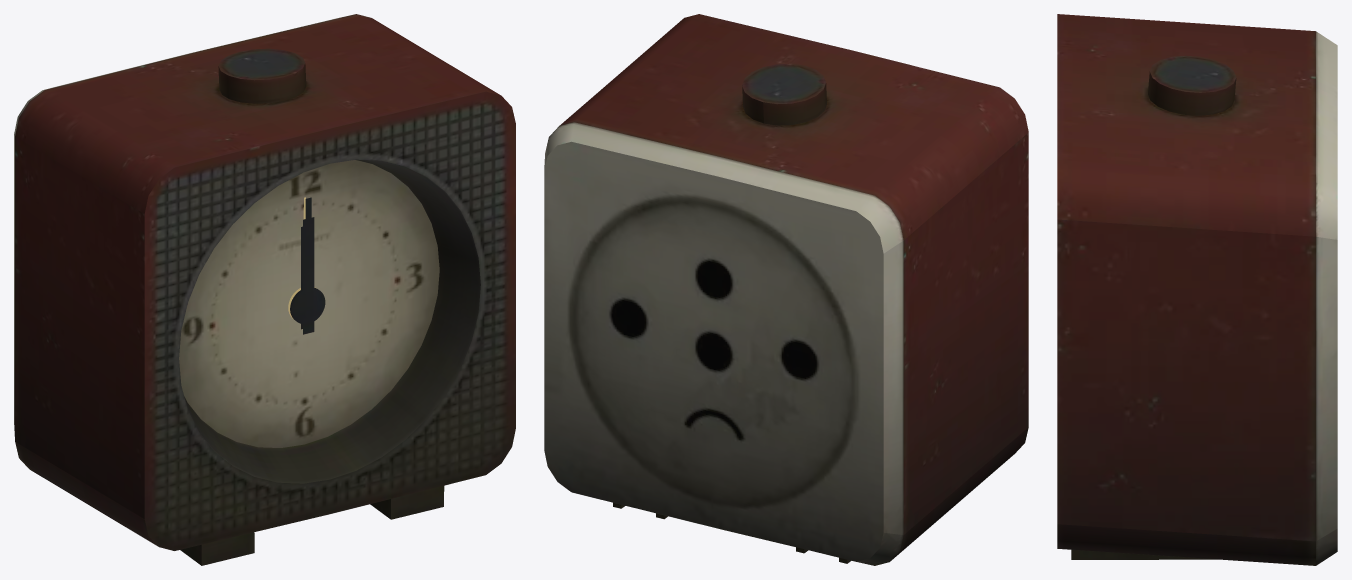
File: vintagealarmclock_a.glb
3 renders of one model, left to right at view 1: azimuth 30°, elevation 25°; view 2: azimuth 150°, elevation 25°; view 3: azimuth 270°, elevation 25°, orthographic. The views are drawn at different scales.
Visible parts, largest first — view 1: AlarmClock_LOD0, AlarmClockMinuteHand; view 2: AlarmClock_LOD0; view 3: AlarmClock_LOD0.
Part boxes in pixels (x1,y1,x2,y2): AlarmClock_LOD0: (14, 14, 515, 565); AlarmClockMinuteHand: (291, 197, 325, 334); AlarmClock_LOD0: (544, 14, 1028, 565); AlarmClock_LOD0: (1057, 14, 1337, 565).
Bounding box in the file's own units: 0.1059 × 0.1173 × 0.0694.
1 material, 1 textured.
